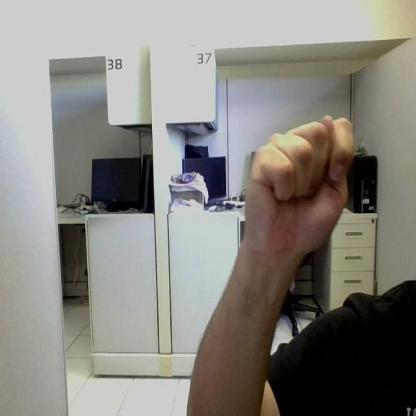T: (246, 116, 354, 258)
